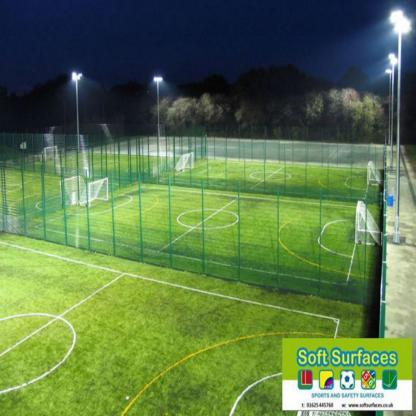Ball: (341, 370, 353, 389)
